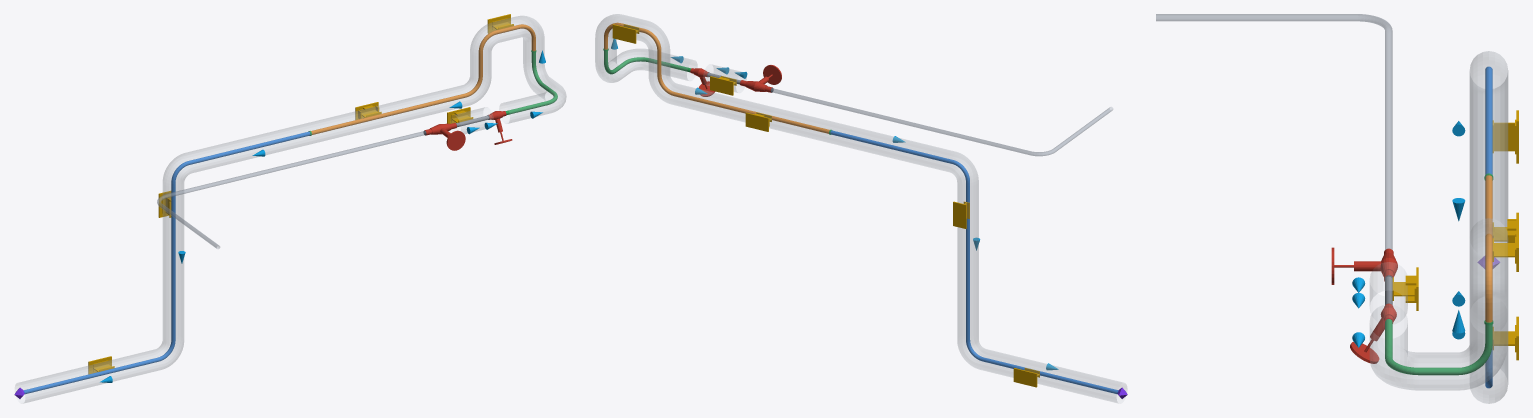
The model's file is 1LCN30_DRG2_DN40_3D_Model.obj.
The picture shows the model from 3 angles, left to right: view 1: azimuth 30°, elevation 25°; view 2: azimuth 150°, elevation 25°; view 3: azimuth 270°, elevation 25°; orthographic projection. The views are drawn at different scales.
Parts seen in each view (by area): view 1: INSULATION_SPOOL_1, INSULATION_SPOOL_2, PIPE_SPOOL_1, INSULATION_SPOOL_3, DRG_1_CONTINUATION_(ASSUMED), PIPE_SPOOL_2, INSULATION_ITEM_8, VALVE_1LCN30AA400, PIPE_SPOOL_3, FLOW_DIRECTION; view 2: INSULATION_SPOOL_1, INSULATION_SPOOL_2, INSULATION_SPOOL_3, PIPE_SPOOL_1, DRG_1_CONTINUATION_(ASSUMED), PIPE_SPOOL_2, VALVE_1LCN30AA400, INSULATION_ITEM_8, PIPE_SPOOL_3, FLOW_DIRECTION; view 3: INSULATION_SPOOL_1, INSULATION_SPOOL_3, INSULATION_SPOOL_2, DRG_1_CONTINUATION_(ASSUMED), INSULATION_ITEM_8, PIPE_SPOOL_3, PIPE_SPOOL_2, FLOW_DIRECTION, PIPE_SPOOL_1, VALVE_1LCN30AA400, SUPPORT_1LCN30BQ037, VALVE_1LCN30AA030 (+4 smaller).
Part boxes in pixels (left/top/right/bottom): INSULATION_SPOOL_1: left=15, top=123, right=314, bottom=403; INSULATION_SPOOL_2: left=305, top=16, right=544, bottom=143; PIPE_SPOOL_1: left=23, top=131, right=310, bottom=394; INSULATION_SPOOL_3: left=499, top=47, right=566, bottom=123; DRG_1_CONTINUATION_(ASSUMED): left=157, top=131, right=425, bottom=248; PIPE_SPOOL_2: left=311, top=24, right=535, bottom=134; INSULATION_ITEM_8: left=450, top=107, right=493, bottom=133; VALVE_1LCN30AA400: left=424, top=123, right=465, bottom=150; PIPE_SPOOL_3: left=505, top=52, right=557, bottom=115; FLOW_DIRECTION: left=100, top=50, right=545, bottom=382; INSULATION_SPOOL_1: left=826, top=122, right=1126, bottom=403; INSULATION_SPOOL_2: left=595, top=14, right=835, bottom=142; INSULATION_SPOOL_3: left=595, top=45, right=696, bottom=82; PIPE_SPOOL_1: left=830, top=130, right=1118, bottom=394; DRG_1_CONTINUATION_(ASSUMED): left=771, top=88, right=1112, bottom=156; PIPE_SPOOL_2: left=604, top=22, right=829, bottom=133; VALVE_1LCN30AA400: left=740, top=65, right=781, bottom=92; INSULATION_ITEM_8: left=703, top=64, right=746, bottom=92; PIPE_SPOOL_3: left=604, top=51, right=691, bottom=74; FLOW_DIRECTION: left=611, top=38, right=1058, bottom=370; INSULATION_SPOOL_1: left=1469, top=51, right=1508, bottom=403; INSULATION_SPOOL_3: left=1370, top=305, right=1507, bottom=390; INSULATION_SPOOL_2: left=1469, top=161, right=1508, bottom=333; DRG_1_CONTINUATION_(ASSUMED): left=1156, top=14, right=1392, bottom=249; INSULATION_ITEM_8: left=1370, top=262, right=1407, bottom=323; PIPE_SPOOL_3: left=1385, top=319, right=1492, bottom=375; PIPE_SPOOL_2: left=1485, top=175, right=1492, bottom=322; FLOW_DIRECTION: left=1352, top=121, right=1465, bottom=347; PIPE_SPOOL_1: left=1485, top=66, right=1492, bottom=388; VALVE_1LCN30AA400: left=1331, top=247, right=1397, bottom=284; SUPPORT_1LCN30BQ037: left=1492, top=110, right=1518, bottom=163; VALVE_1LCN30AA030: left=1350, top=303, right=1396, bottom=363.
Size of the model in its own units: 6971 by 3330 by 2338.
